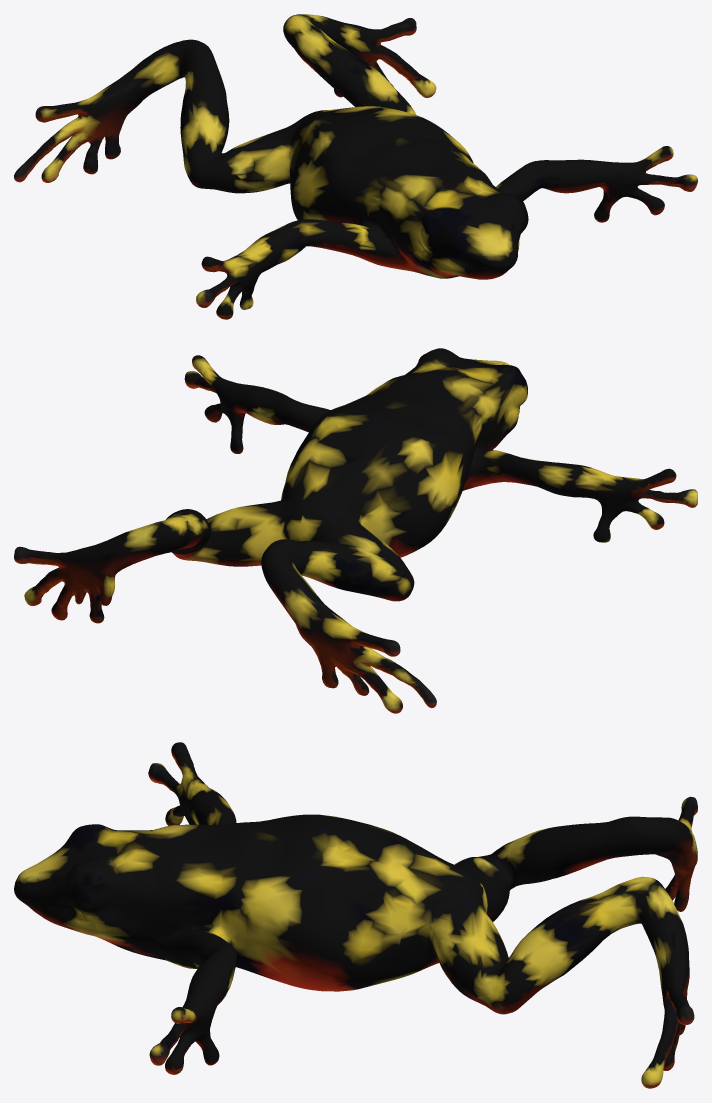
Rendered from bumblebee.swim.glb.
3 views of the same model, one above another, from view 1: azimuth 30°, elevation 25°; view 2: azimuth 150°, elevation 25°; view 3: azimuth 270°, elevation 25° (orthographic). The views are drawn at different scales.
Parts seen in each view (by area): view 1: bumblebee.swim; view 2: bumblebee.swim; view 3: bumblebee.swim.
Part boxes in pixels (box(x1,y1,x2,y2)): bumblebee.swim: box(14, 14, 697, 319); bumblebee.swim: box(14, 348, 697, 713); bumblebee.swim: box(14, 742, 697, 1088).
Bounding box in the file's own units: 0.0408 × 0.0102 × 0.0411.
